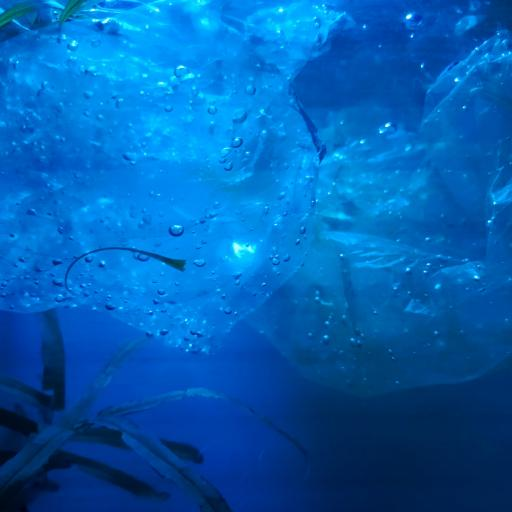plastic_bag: (1, 2, 322, 358), (257, 0, 512, 397)
